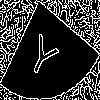Y: (25, 25, 63, 82)
